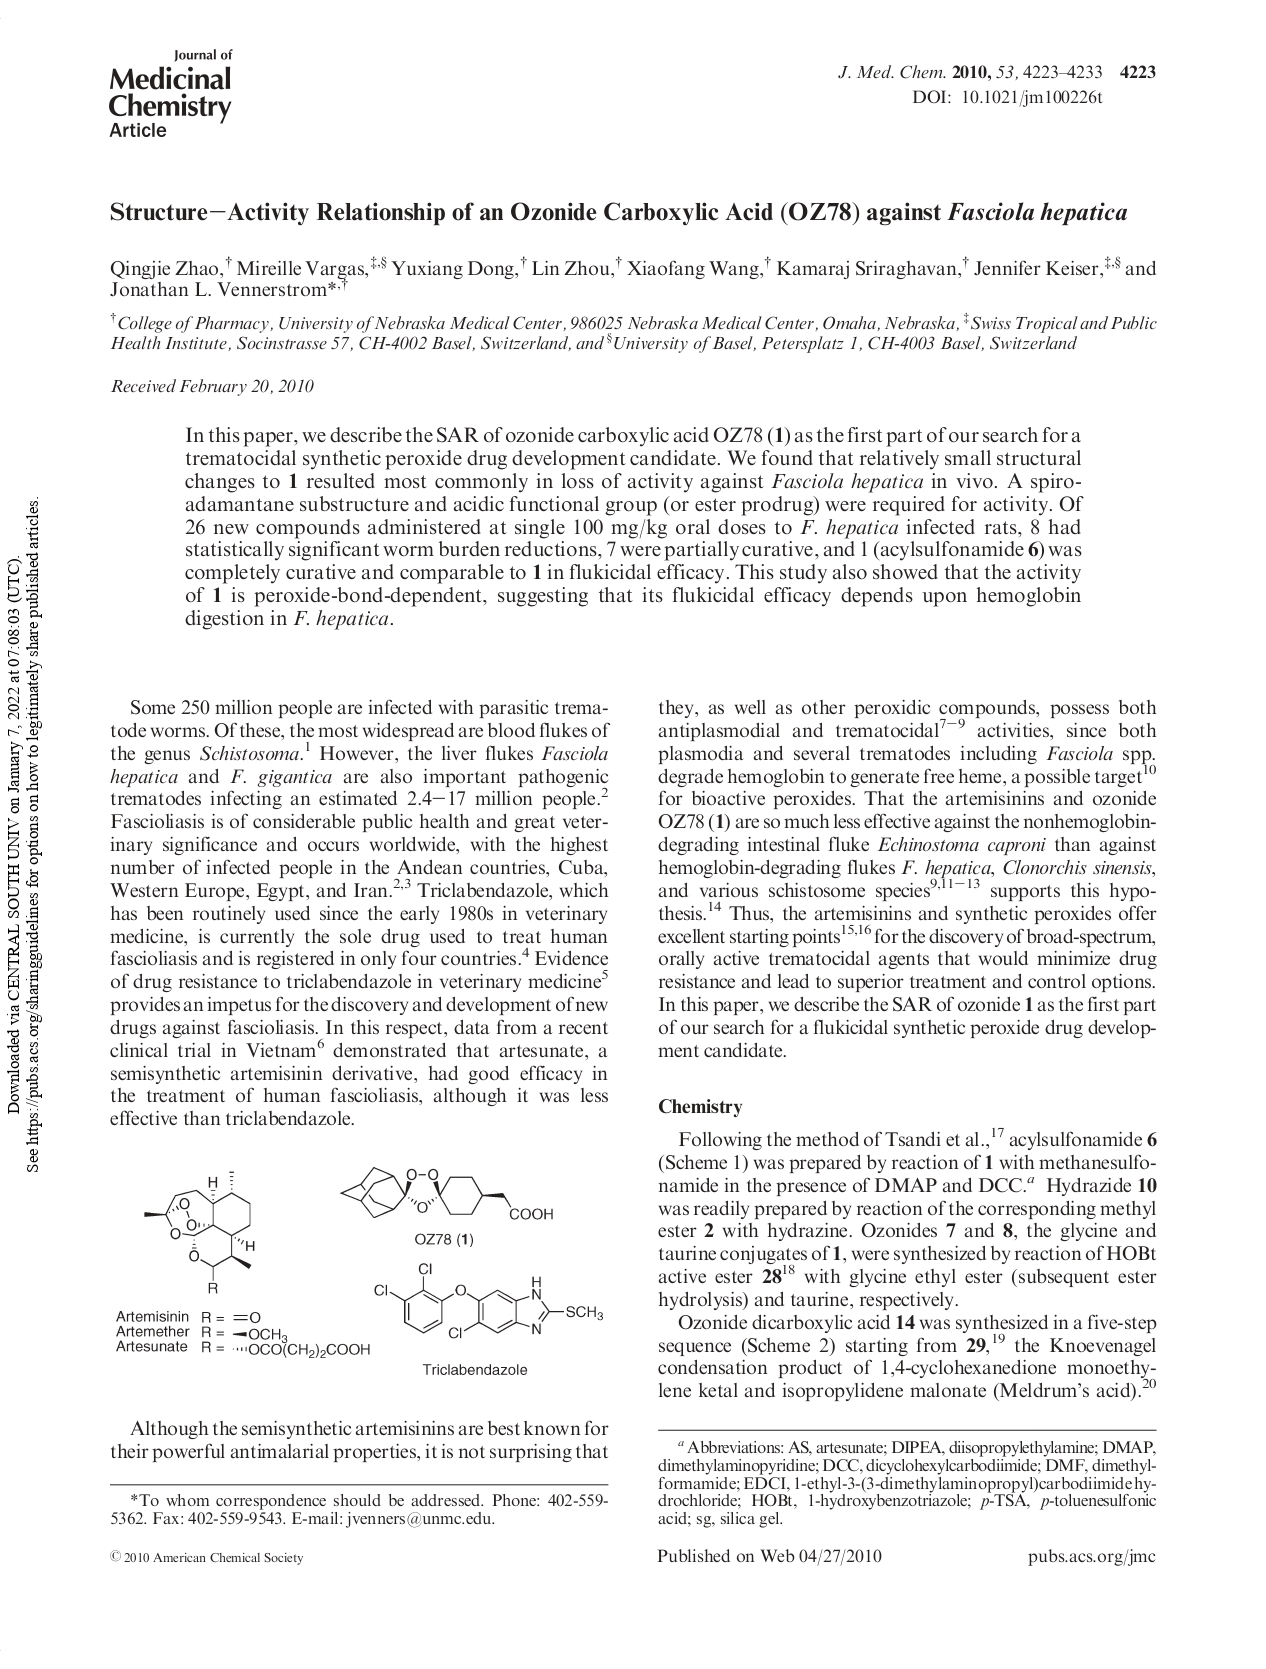exist_molecular: (332, 1154, 555, 1259), (364, 1262, 609, 1343), (140, 1165, 265, 1301)
